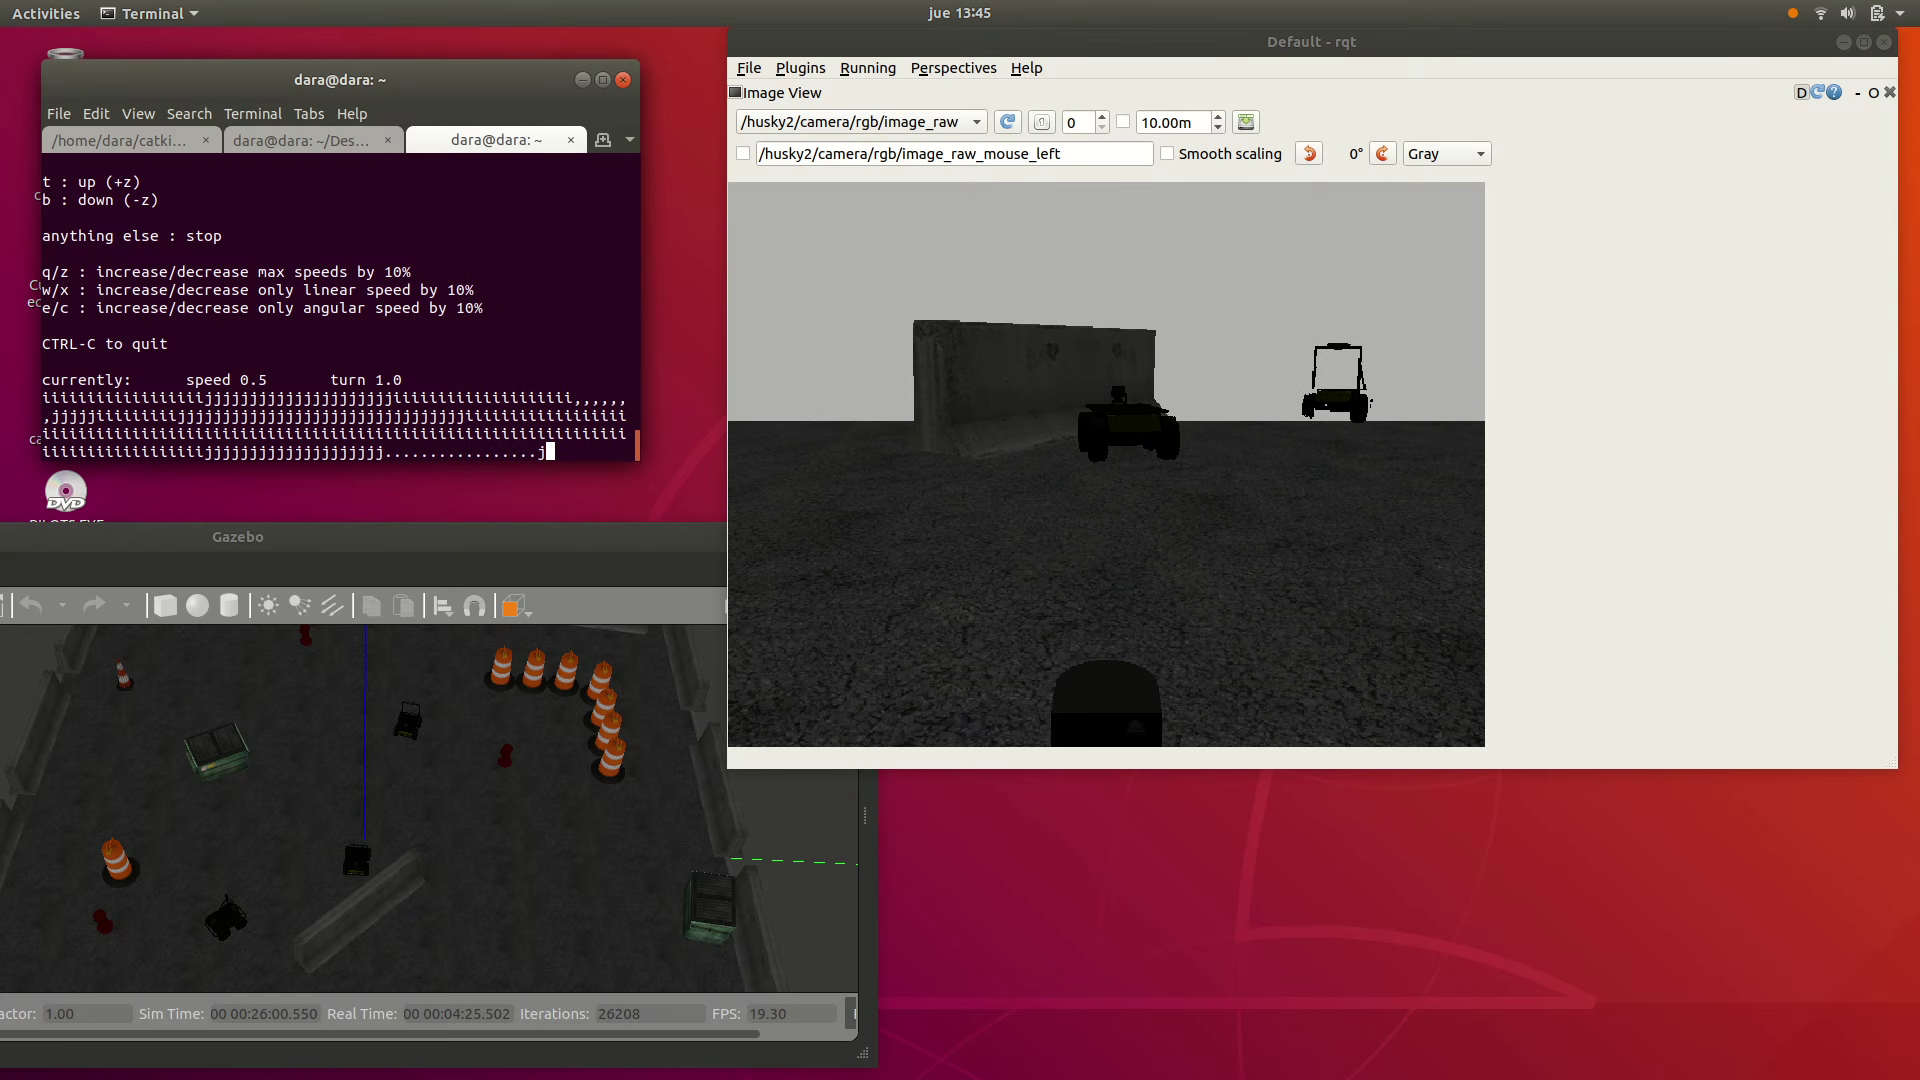husky: (1078, 404, 1180, 463), (1302, 389, 1369, 422), (205, 904, 247, 941), (343, 844, 372, 877), (394, 711, 423, 741)
